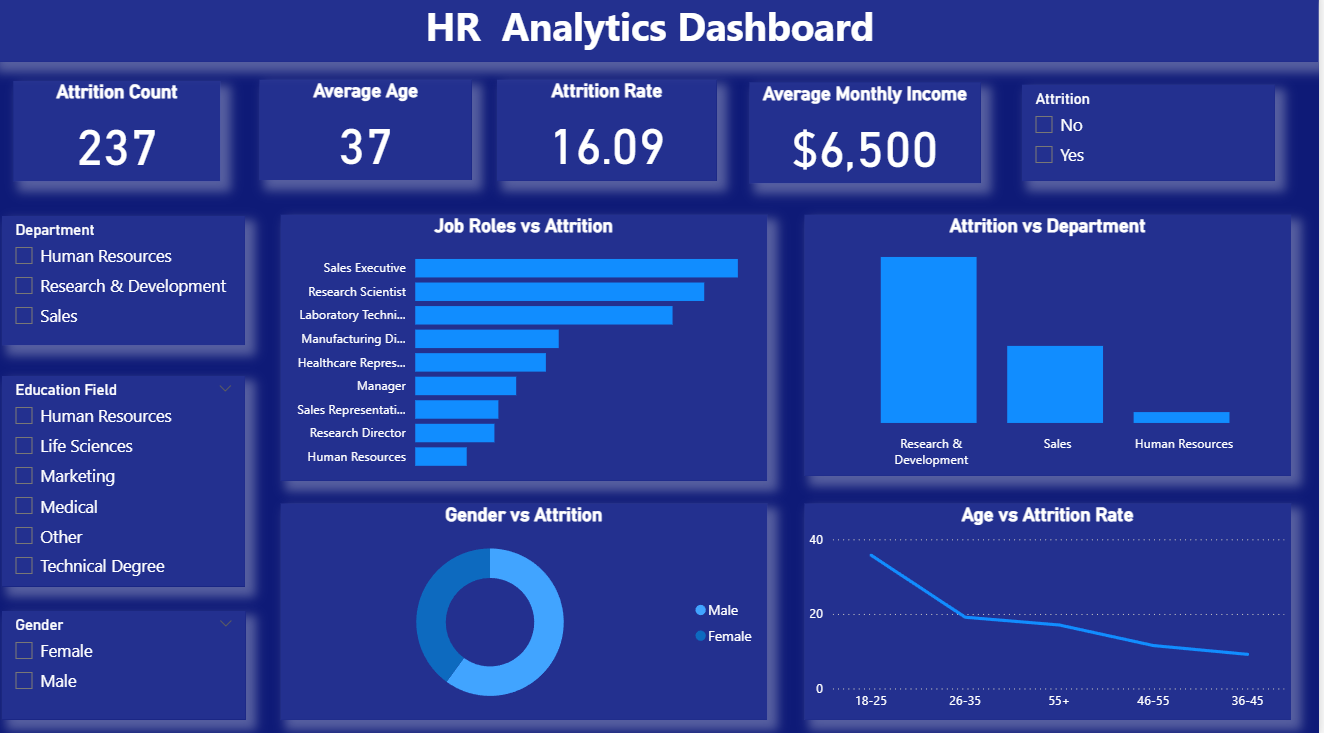

The dashboard page shown, as its layout file describes it:
{"tool":"powerbi","page":{"name":"Page 1","canvas":[1280,720],"ordinal":0},"visuals":[{"type":"card","title":"Attrition Count","fields":{"Values":["HR_Analytics_Clean.Attrition Count"]},"box":[20.5,86.9,200.3,96.5],"z":0},{"type":"card","title":"Average Age","fields":{"Values":["HR_Analytics_Clean.Average Age"]},"box":[258.2,85.7,205.1,96.5],"z":1000},{"type":"card","title":"Attrition Rate","fields":{"Values":["HR_Analytics_Clean.Attrition Rate"]},"box":[487.4,85.7,212.3,97.7],"z":2000},{"type":"card","title":"Average Monthly Income","fields":{"Values":["Avg(HR_Analytics_Clean.Monthly Income)"]},"box":[731.1,88.1,223.2,97.7],"z":3000},{"type":"slicer","fields":{"Values":["HR_Analytics_Clean.Department"]},"box":[9.8,217.7,234.8,124.7],"z":4000},{"type":"slicer","fields":{"Values":["HR_Analytics_Clean.Gender"]},"box":[9.7,598.4,235.3,105],"z":5000},{"type":"slicer","fields":{"Values":["HR_Analytics_Clean.EducationField"]},"box":[9.8,371.7,234.8,203],"z":6000},{"type":"columnChart","title":" Attrition vs Department","fields":{"Category":["HR_Analytics_Clean.Department"],"Y":["CountNonNull(HR_Analytics_Clean.Attrition)"]},"box":[784.2,216,469.3,252.1],"z":7000},{"type":"donutChart","title":"Gender vs Attrition ","fields":{"Category":["HR_Analytics_Clean.Gender"],"Y":["CountNonNull(HR_Analytics_Clean.Attrition)"]},"box":[278.7,494.6,469.3,208.7],"z":8000},{"type":"clusteredBarChart","title":"Job Roles vs Attrition ","fields":{"Category":["HR_Analytics_Clean.JobRole"],"Y":["CountNonNull(HR_Analytics_Clean.Attrition)"]},"box":[278.7,216,469.3,257],"z":9000},{"type":"lineChart","title":"Age vs Attrition Rate","fields":{"Category":["HR_Analytics_Clean.AgeGroup"],"Y":["HR_Analytics_Clean.Attrition Rate"]},"box":[784.2,494.6,469.3,208.7],"z":10000},{"type":"slicer","fields":{"Values":["HR_Analytics_Clean.Attrition"]},"box":[994.1,90.5,243.7,92.9],"z":11000},{"type":"textbox","box":[0,3.6,1280,65.1],"z":12000}]}

Visuals, with their boxes in screenshot pixels (x1, y1, x2, y2), scaled from the page's 1280x720 canvas onto the 1324x733 screenshot:
"Attrition Count" card: <box>21,88,228,187</box>
"Average Age" card: <box>267,87,479,185</box>
"Attrition Rate" card: <box>504,87,724,187</box>
"Average Monthly Income" card: <box>756,90,987,189</box>
slicer - HR_Analytics_Clean.Department: <box>10,222,253,349</box>
slicer - HR_Analytics_Clean.Gender: <box>10,609,253,716</box>
slicer - HR_Analytics_Clean.EducationField: <box>10,378,253,585</box>
" Attrition vs Department" columnChart: <box>811,220,1297,477</box>
"Gender vs Attrition " donutChart: <box>288,504,774,716</box>
"Job Roles vs Attrition " clusteredBarChart: <box>288,220,774,482</box>
"Age vs Attrition Rate" lineChart: <box>811,504,1297,716</box>
slicer - HR_Analytics_Clean.Attrition: <box>1028,92,1280,187</box>
textbox: <box>0,4,1323,70</box>
